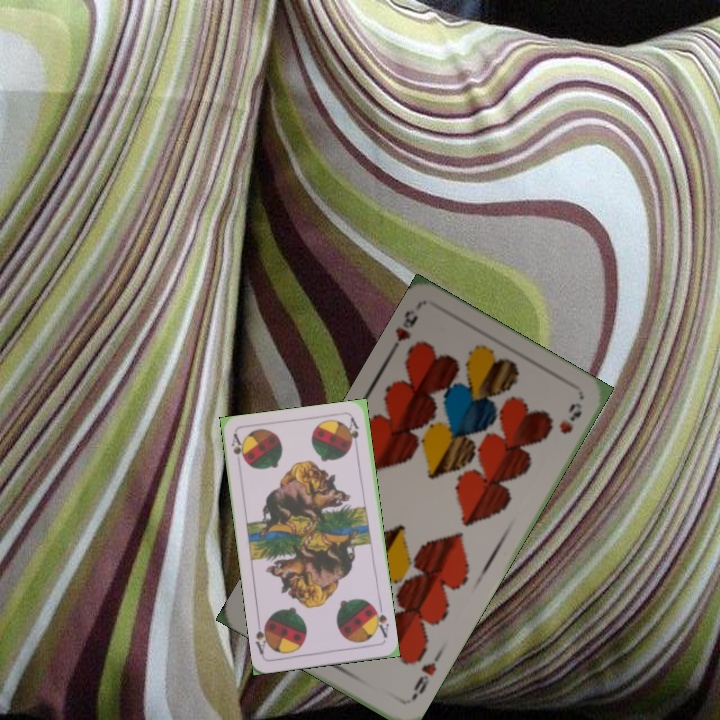H9: (407, 650, 444, 703), (385, 305, 421, 357)
SA: (369, 601, 392, 640), (227, 430, 248, 466)
